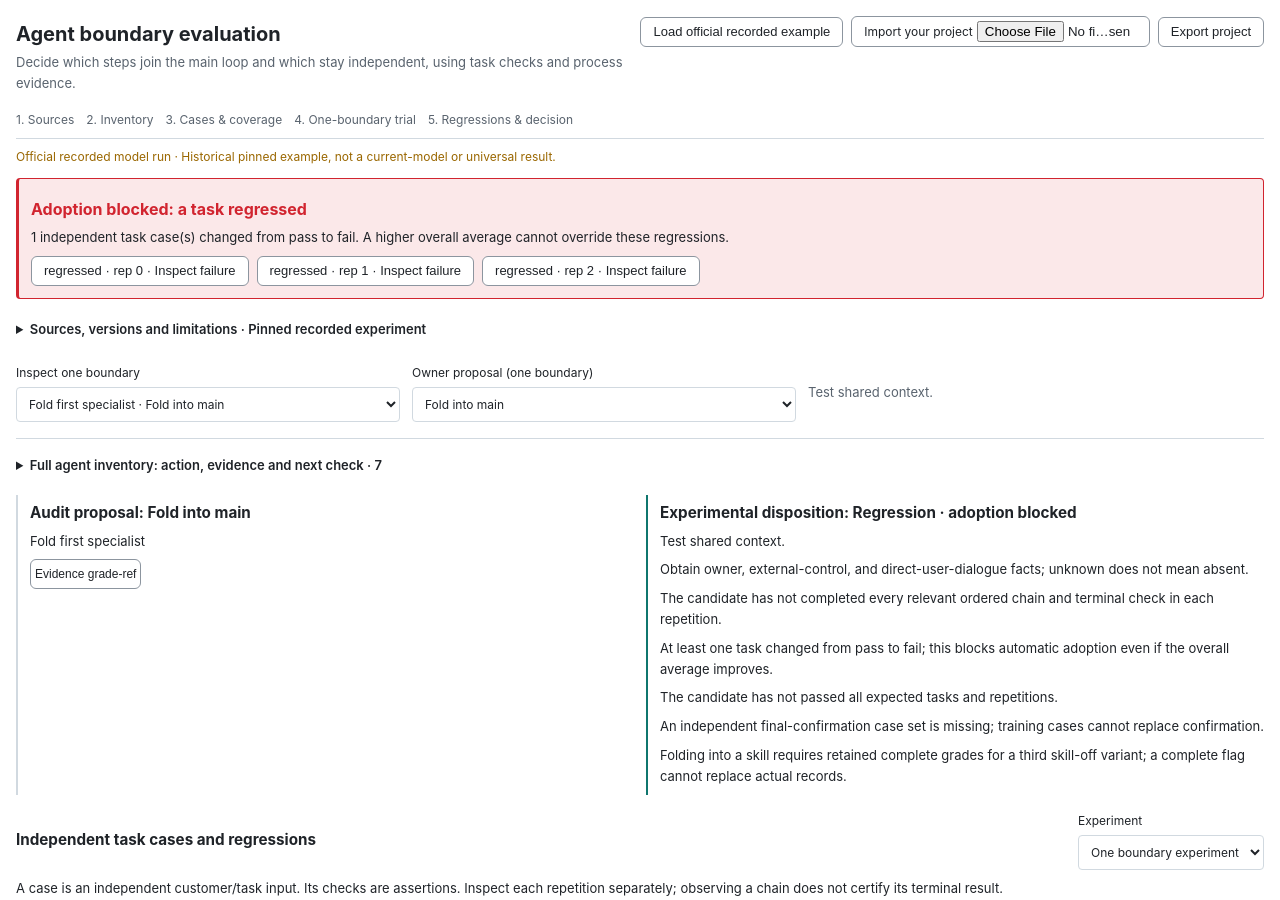
Test: records owner boundary proposals independently of measured regressions
Select "Keep boundary" in the dropdown named "Owner boundary proposal". click: (604, 404)
box: [412,387,796,422]
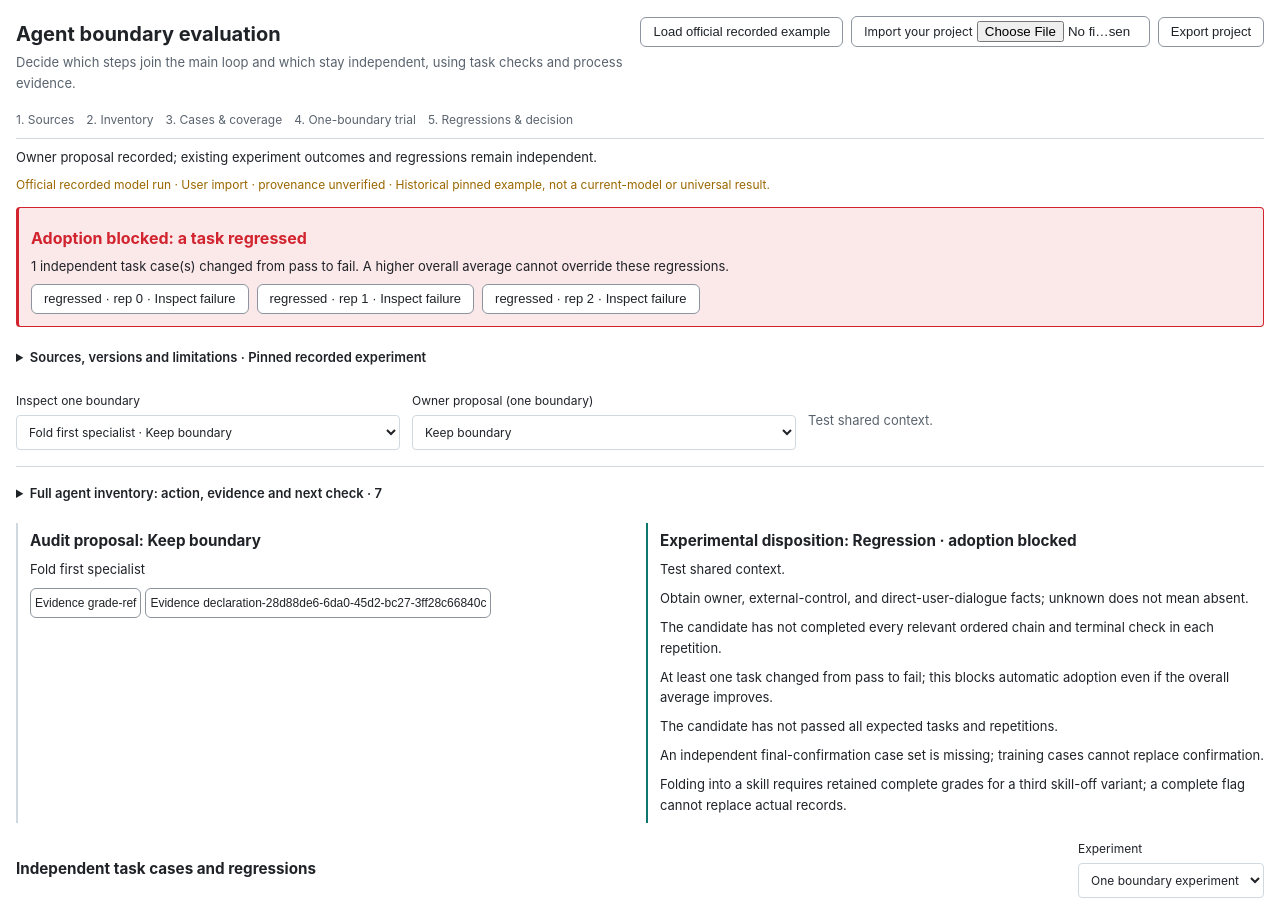
Expected: the element named "Adoption gate" shows "Adoption blocked", [31,228,307,248]
Expected: the text "Owner proposal recorded" is shown, [16,149,597,165]
Expected: the text with class "af-provenance" shows "User import", [16,177,385,192]
